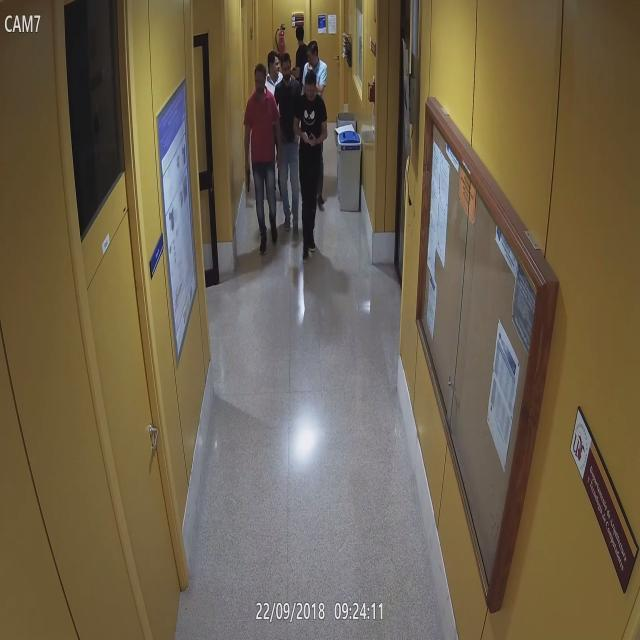pistol: (243, 162, 252, 192)
